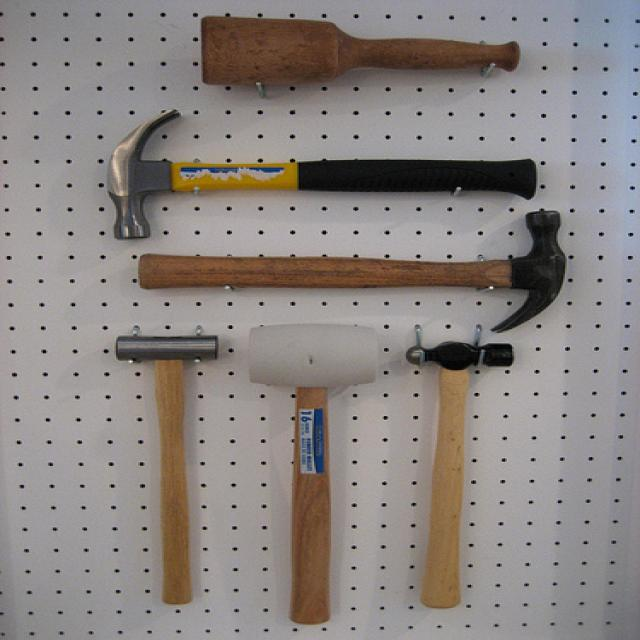hammer: (94, 192, 624, 334), (107, 102, 552, 232), (89, 309, 248, 590), (388, 322, 530, 618)
